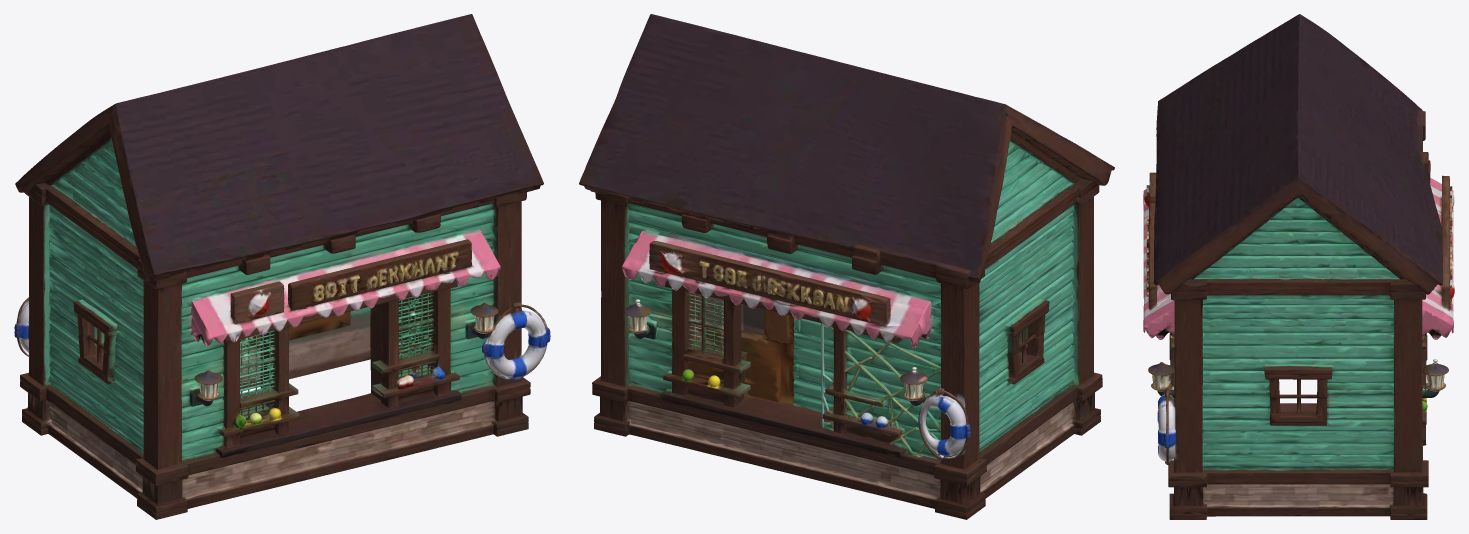
The model's file is bait_shop-c737afcb.glb.
3 renders of one model, left to right at view 1: azimuth 30°, elevation 25°; view 2: azimuth 150°, elevation 25°; view 3: azimuth 270°, elevation 25°, orthographic. The views are drawn at different scales.
Visible parts, largest first — view 1: tripo_node_c268b4cd-c772-40e5-934d-f7b6b92aabde; view 2: tripo_node_c268b4cd-c772-40e5-934d-f7b6b92aabde; view 3: tripo_node_c268b4cd-c772-40e5-934d-f7b6b92aabde.
Part boxes in pixels (<box>): tripo_node_c268b4cd-c772-40e5-934d-f7b6b92aabde: <box>14,14,550,519</box>; tripo_node_c268b4cd-c772-40e5-934d-f7b6b92aabde: <box>579,14,1114,519</box>; tripo_node_c268b4cd-c772-40e5-934d-f7b6b92aabde: <box>1143,14,1454,519</box>.
Bounding box in the file's own units: 0.9799 × 0.8479 × 0.6866.
1 material, 1 textured.
